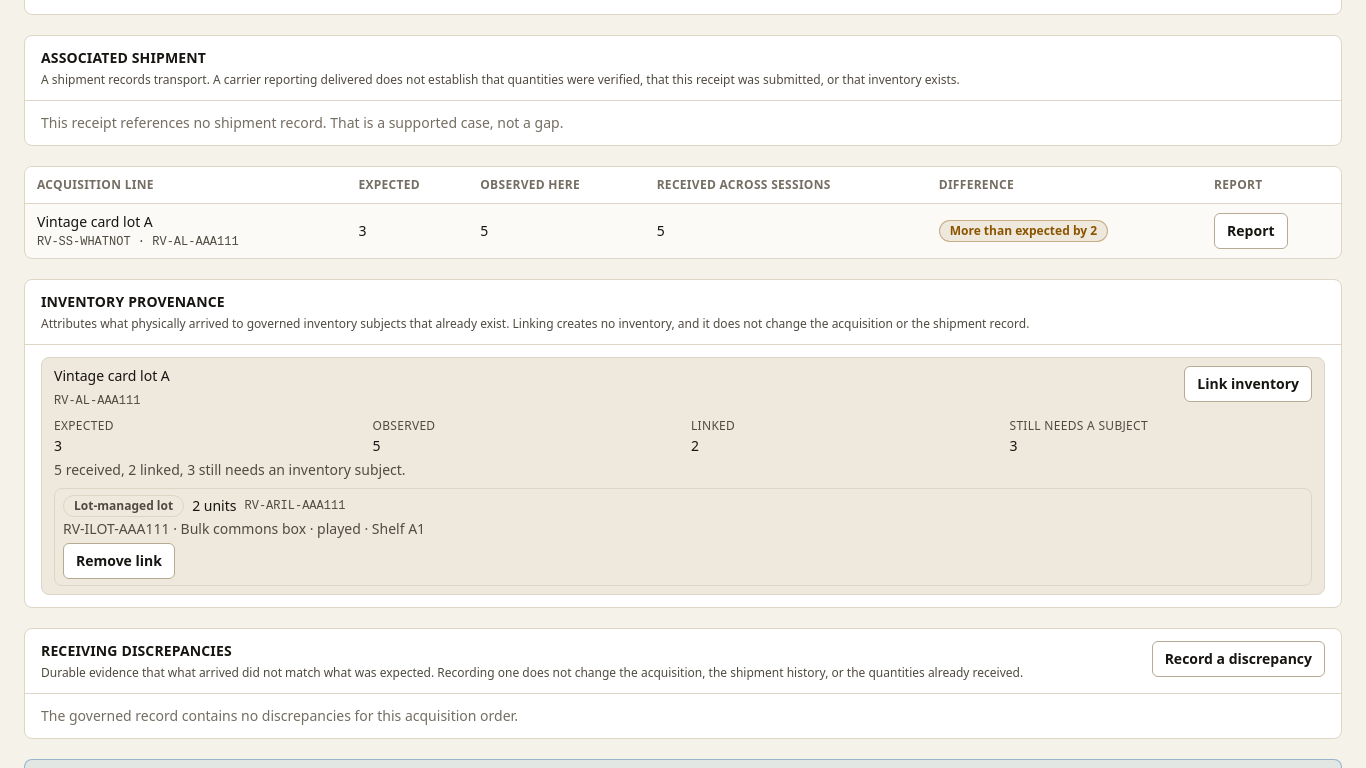
linking to a governed inventory subject › directs the operator to the governed creation workflow when nothing matches
(page scrolled)
Click the button "Link inventory" at (1248, 384), box [1184,366,1312,402]
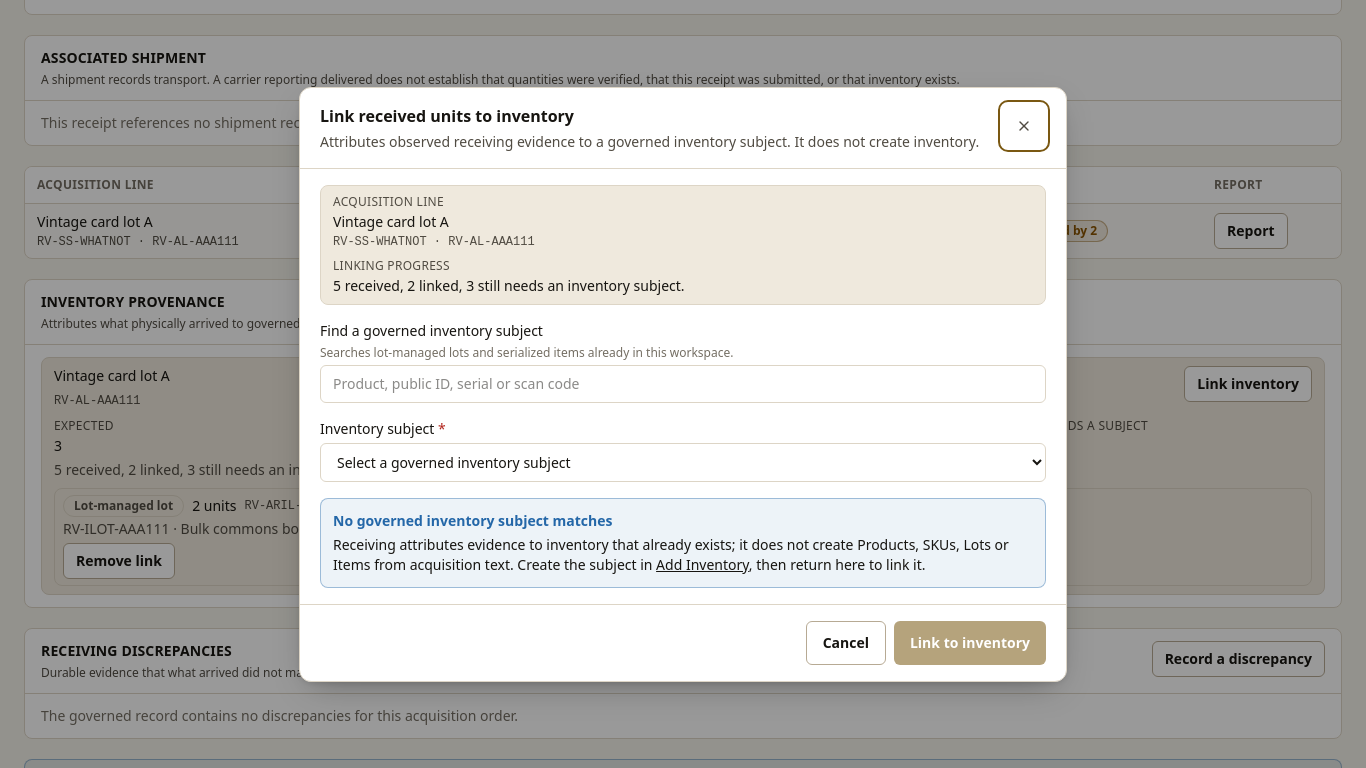
Expected: the text "does not create Products" is shown, [333,534,1009,574]
Expected: the link "Add Inventory" is shown, [656,554,749,574]
